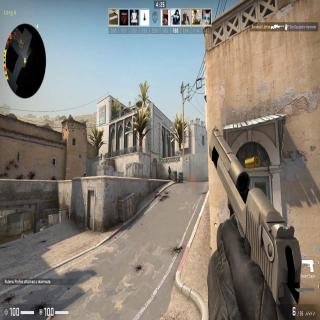CT-Body: (168, 165, 171, 179), (83, 172, 87, 177)
CT-Head: (168, 166, 170, 168), (84, 173, 86, 175)
